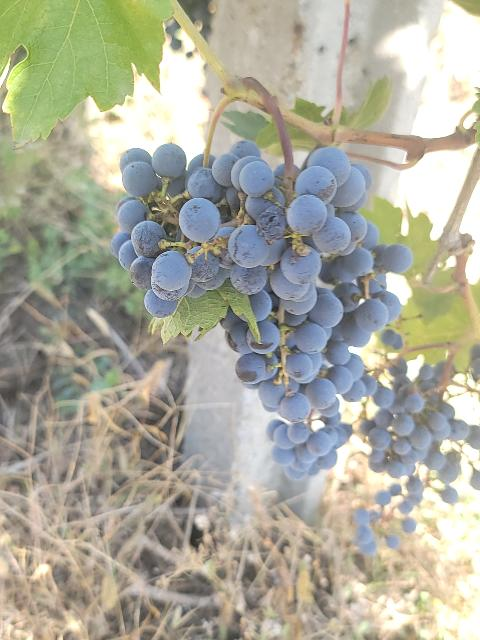grapes: (236, 148, 412, 480), (110, 140, 276, 310), (359, 359, 480, 532), (354, 509, 382, 556)
